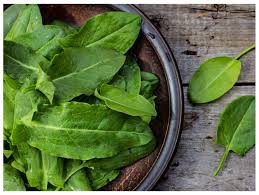spinach: (27, 29, 144, 172)
